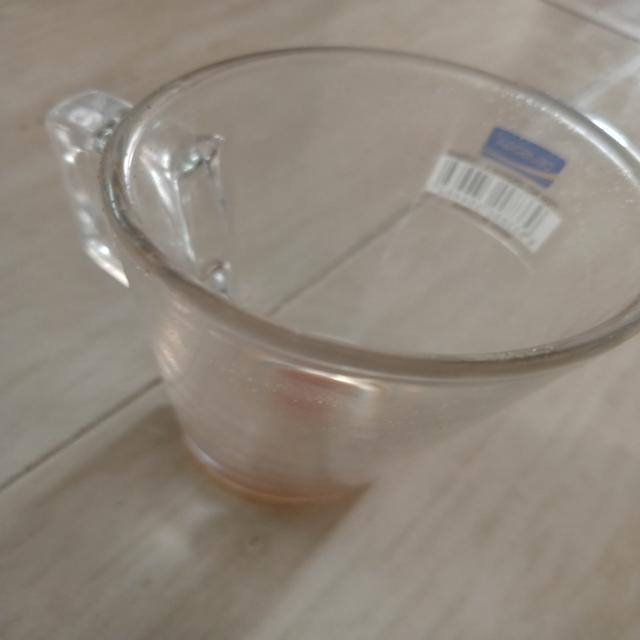glass-VX4N: (48, 41, 640, 504)
